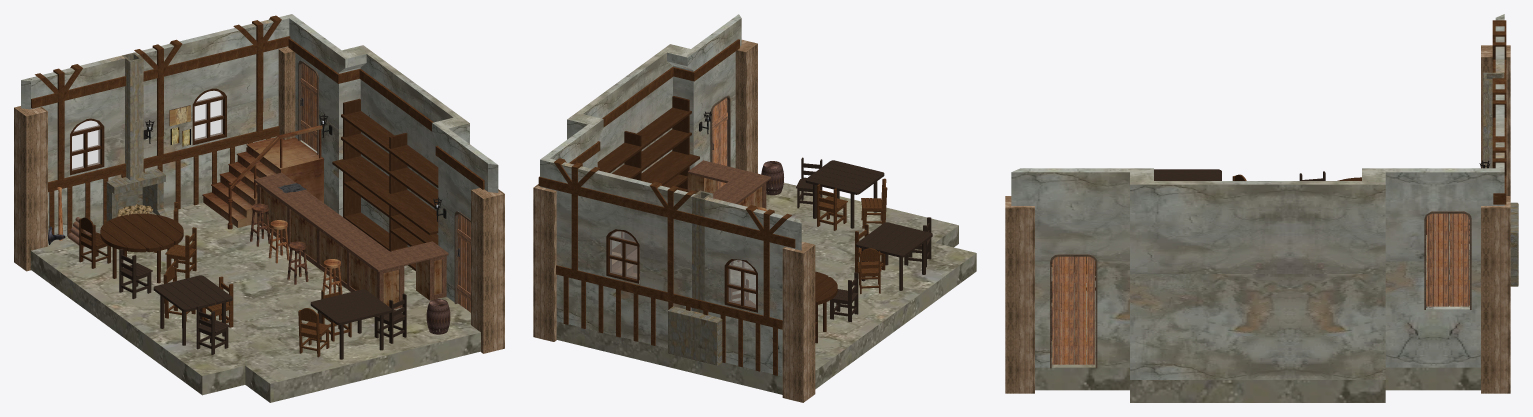
Rendered from comp-tavern.glb.
3 renders of one model, left to right at view 1: azimuth 30°, elevation 25°; view 2: azimuth 150°, elevation 25°; view 3: azimuth 270°, elevation 25°, orthographic. The views are drawn at different scales.
Parts seen in each view (by area): view 1: Piso_Surface - Matte_0.001, object 23, object 14, Pilar (1)_Cherry_0.001, Prateleiras_Estante Pintura - Esmalte com brilho (Verde)_0.0, Cadeira 1_Stainless Steel - Satin_0.001, Escada_Pine_0.001, object 29, object 15, Cadeira 3_Mesa redonda Mogno_0.001, Porta da Escada_Gemstone - Sapphire_0.001, object 16 (+11 smaller); view 2: object 23, Piso_Surface - Matte_0.001, object 14, Pilar (1)_Cherry_0.001, Prateleiras_Estante Pintura - Esmalte com brilho (Verde)_0.0, Cadeira 1_Stainless Steel - Satin_0.001, object 21, Janela (1)_Gemstone - Ruby_0.001, Vidro (1)_Glass (Clear)_0.001, object 29, Cadeira 3_Stainless Steel - Brushed Linear Long_0.001, Cadeira 1_Paint - Enamel Glossy (Red)_0.001 (+6 smaller); view 3: object 23, Pilar (1)_Cherry_0.001, Piso_Surface - Matte_0.001, Porta da Escada_Gemstone - Sapphire_0.001, object 14, Porta da Escada (1)_Gemstone - Diamond_0.001, object 21, Cadeira 1_Stainless Steel - Satin_0.001, object 16.
Part boxes in pixels (bbox=[...]): Piso_Surface - Matte_0.001: bbox=[30, 202, 480, 402]; object 23: bbox=[21, 14, 498, 302]; object 14: bbox=[31, 15, 484, 235]; Pilar (1)_Cherry_0.001: bbox=[14, 47, 504, 353]; Prateleiras_Estante Pintura - Esmalte com brilho (Verde)_0.0: bbox=[332, 98, 438, 270]; Cadeira 1_Stainless Steel - Satin_0.001: bbox=[153, 275, 406, 359]; Escada_Pine_0.001: bbox=[202, 125, 323, 229]; object 29: bbox=[254, 172, 448, 272]; object 15: bbox=[260, 187, 441, 305]; Cadeira 3_Mesa redonda Mogno_0.001: bbox=[79, 213, 183, 283]; Porta da Escada_Gemstone - Sapphire_0.001: bbox=[301, 63, 470, 312]; object 16: bbox=[125, 55, 143, 180]; object 23: bbox=[540, 14, 801, 376]; Piso_Surface - Matte_0.001: bbox=[556, 182, 976, 394]; object 14: bbox=[538, 39, 795, 375]; Pilar (1)_Cherry_0.001: bbox=[533, 39, 815, 402]; Prateleiras_Estante Pintura - Esmalte com brilho (Verde)_0.0: bbox=[597, 96, 699, 255]; Cadeira 1_Stainless Steel - Satin_0.001: bbox=[796, 157, 932, 290]; object 21: bbox=[668, 190, 722, 365]; Janela (1)_Gemstone - Ruby_0.001: bbox=[606, 229, 757, 312]; Vidro (1)_Glass (Clear)_0.001: bbox=[610, 231, 755, 308]; object 29: bbox=[627, 160, 771, 262]; Cadeira 3_Stainless Steel - Brushed Linear Long_0.001: bbox=[857, 178, 887, 293]; Cadeira 1_Paint - Enamel Glossy (Red)_0.001: bbox=[817, 184, 885, 276]; object 23: bbox=[1011, 14, 1504, 379]; Pilar (1)_Cherry_0.001: bbox=[1005, 45, 1510, 393]; Piso_Surface - Matte_0.001: bbox=[1035, 213, 1480, 402]; Porta da Escada_Gemstone - Sapphire_0.001: bbox=[1052, 213, 1469, 364]; object 14: bbox=[1492, 20, 1506, 204]; Porta da Escada (1)_Gemstone - Diamond_0.001: bbox=[1050, 211, 1471, 368]; object 21: bbox=[1449, 72, 1518, 286]; Cadeira 1_Stainless Steel - Satin_0.001: bbox=[1051, 169, 1221, 311]; object 16: bbox=[1483, 72, 1492, 168].
Size of the model in its own units: 6.55 by 3.89 by 8.2.
37 materials, 36 textured.
